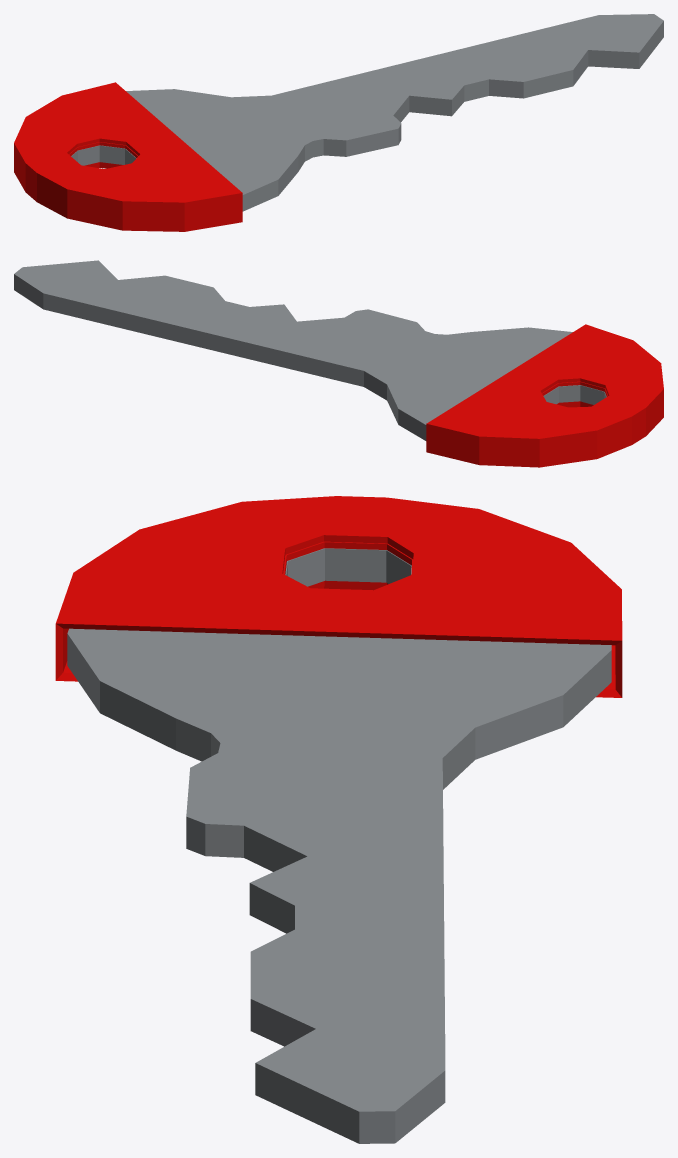
The model's file is klic.fbx.
The picture shows the model from 3 angles, top to bottom: view 1: azimuth 30°, elevation 25°; view 2: azimuth 150°, elevation 25°; view 3: azimuth 270°, elevation 25°; orthographic projection. The views are drawn at different scales.
Parts seen in each view (by area): view 1: Cube, Cube.001; view 2: Cube, Cube.001; view 3: Cube, Cube.001.
Part boxes in pixels (bbox=[...]): Cube: bbox=[71, 14, 663, 211]; Cube.001: bbox=[14, 82, 242, 231]; Cube: bbox=[14, 260, 606, 440]; Cube.001: bbox=[426, 324, 663, 467]; Cube: bbox=[67, 548, 611, 1143]; Cube.001: bbox=[55, 496, 622, 697].
Bounding box in the file's own units: 418 × 18.53 × 166.
